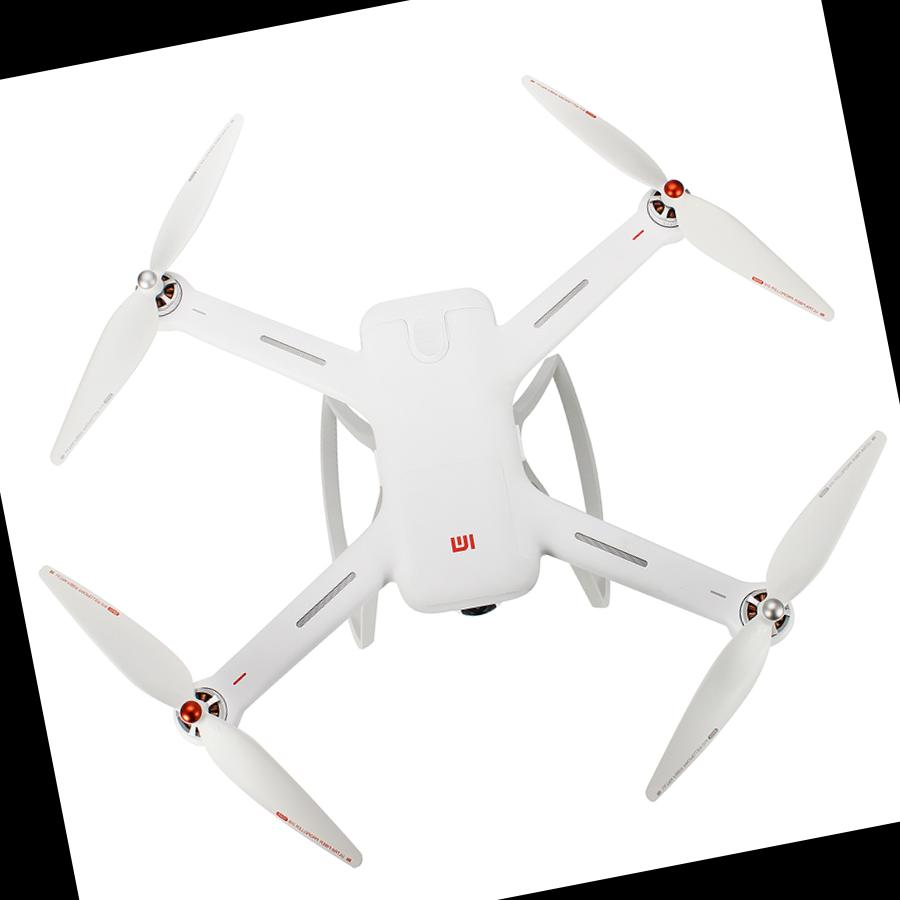drone: (0, 52, 900, 900)
